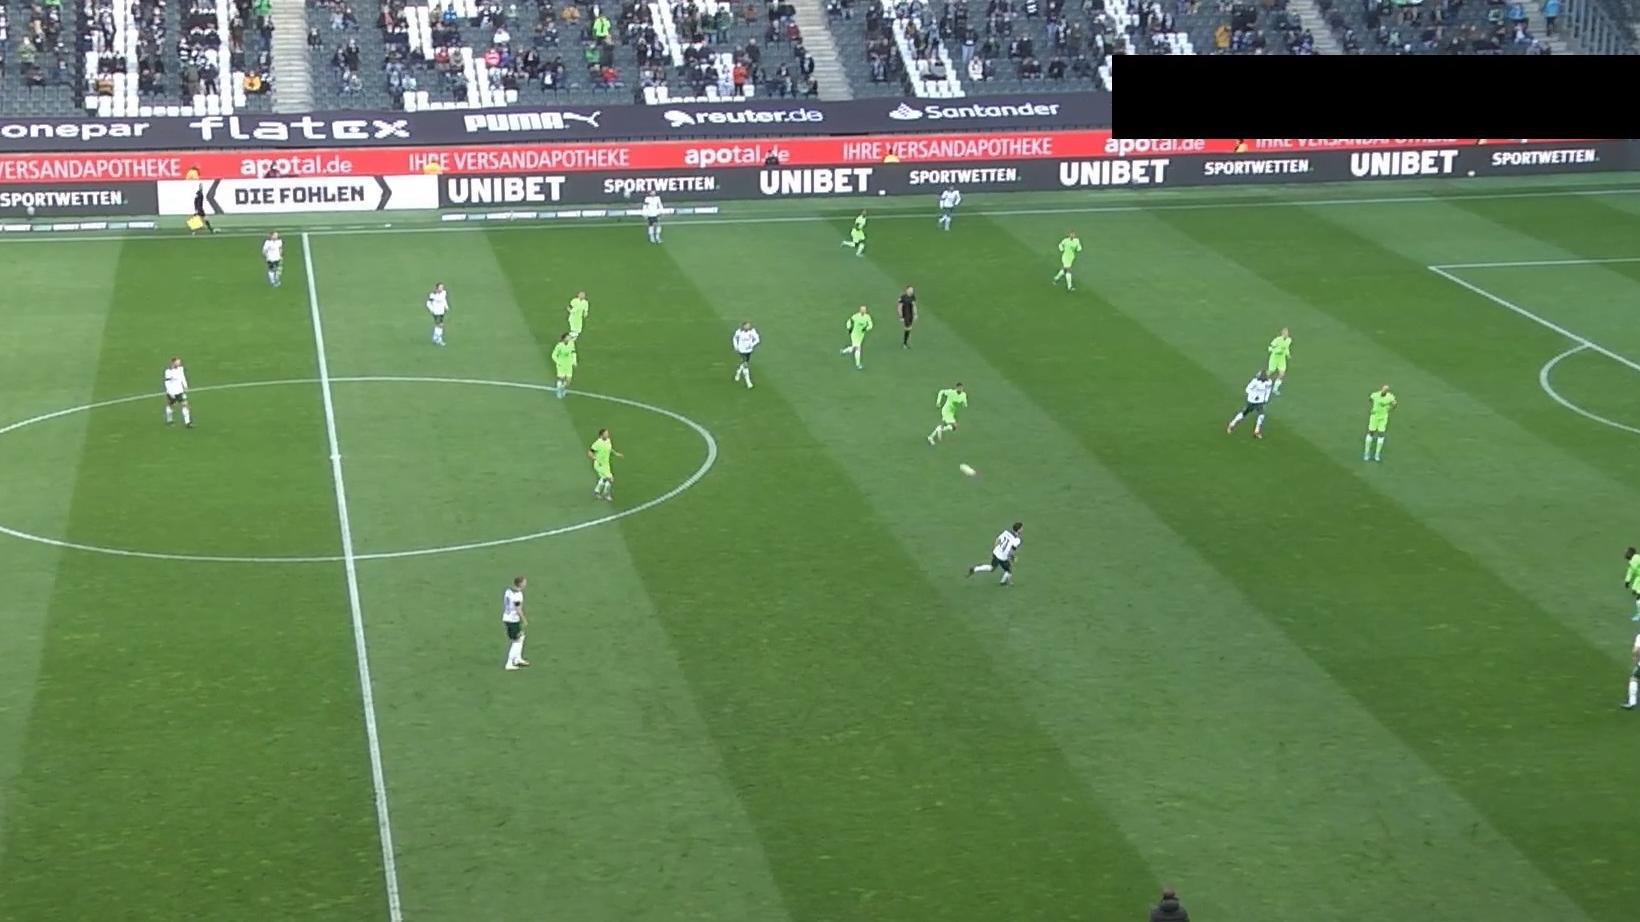ball: (959, 462, 977, 477)
